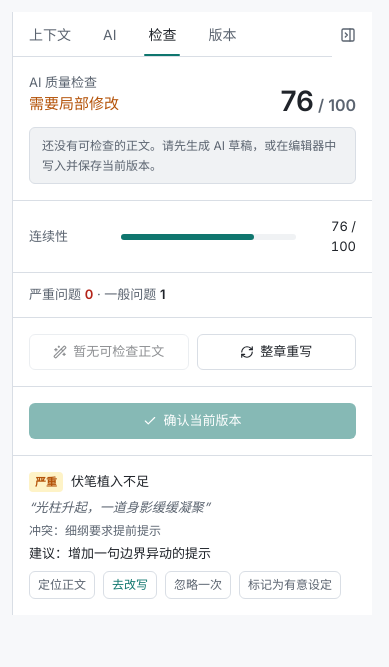
RightPanel audit actions › locates evidence and generates a rewrite candidate
Step 1. Click the button "定位正文" → (62, 585), box [29, 571, 95, 599]
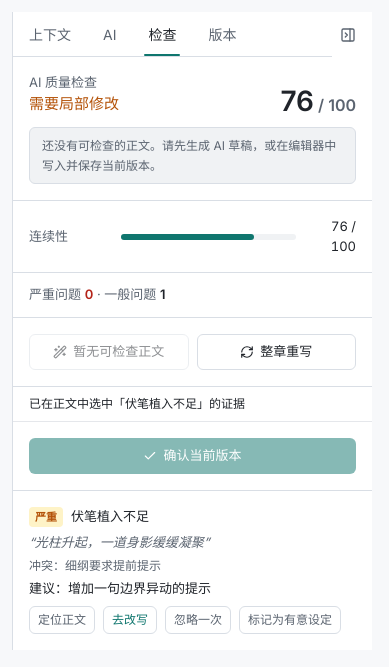
Expected: the text "已在正文中选中" is shown, [29, 396, 245, 410]
Step 2. Click the button "去改写" → (130, 620), box [103, 606, 157, 634]
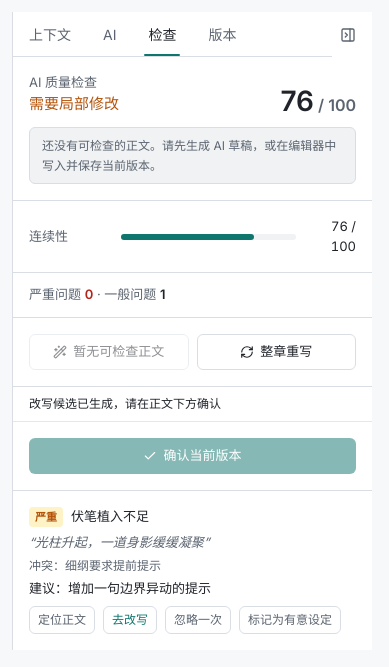
Expected: the text "改写候选已生成" is shown, [29, 396, 221, 410]
